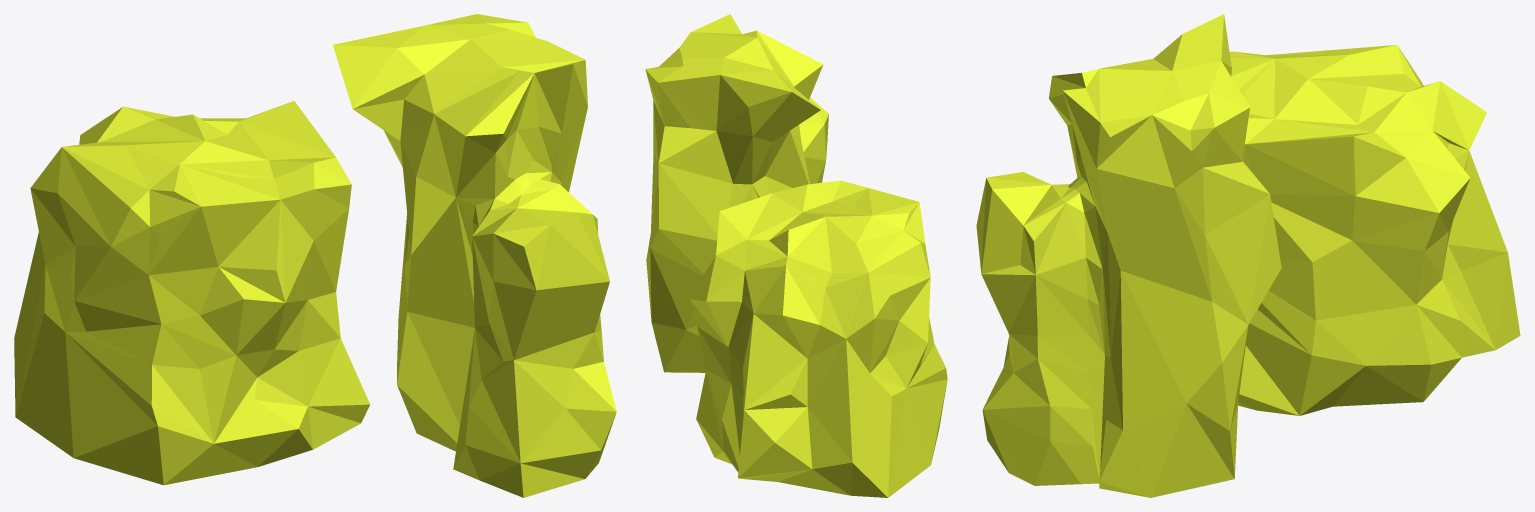
Rendered from CoralRock_7.fbx.
3 renders of one model, left to right at view 1: azimuth 30°, elevation 25°; view 2: azimuth 150°, elevation 25°; view 3: azimuth 270°, elevation 25°, orthographic. The views are drawn at different scales.
Visible parts, largest first — view 1: CoralRock_7; view 2: CoralRock_7; view 3: CoralRock_7.
Part boxes in pixels (bbox=[...]): CoralRock_7: bbox=[14, 14, 616, 497]; CoralRock_7: bbox=[645, 14, 947, 497]; CoralRock_7: bbox=[976, 14, 1520, 497].
Bounding box in the file's own units: 6175 × 5570 × 7036.
